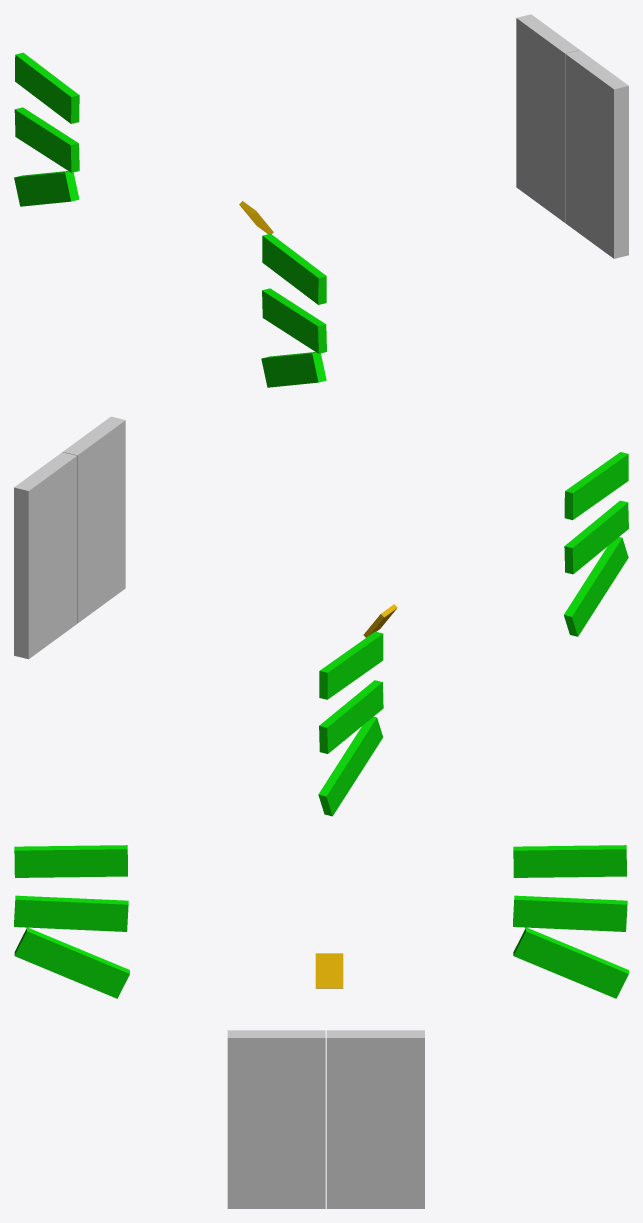
Rendered from Blocky_MainRoomV2_Gameplay.fbx.
3 views of the same model, one above another, from view 1: azimuth 30°, elevation 25°; view 2: azimuth 150°, elevation 25°; view 3: azimuth 270°, elevation 25° (orthographic).
Visible parts, largest first — view 1: Cube.632, Cube.631, Cube.251, Cube.296, Cube.295, Cube.250, Cube.249, Cube.294; view 2: Cube.631, Cube.632, Cube.294, Cube.249, Cube.250, Cube.295, Cube.251, Cube.296; view 3: Cube.631, Cube.632, Cube.295, Cube.250, Cube.249, Cube.251, Cube.294, Cube.296, Cube.211.
Boxes of the visible parts, x1,y1,x2,y2 form: Cube.632: (565, 50, 628, 258); Cube.631: (516, 14, 579, 222); Cube.251: (15, 52, 79, 123); Cube.296: (262, 233, 326, 304); Cube.295: (262, 288, 326, 353); Cube.250: (14, 107, 79, 172); Cube.249: (14, 171, 79, 206); Cube.294: (261, 352, 326, 387); Cube.631: (14, 452, 76, 659); Cube.632: (63, 416, 125, 623); Cube.294: (564, 537, 628, 636); Cube.249: (318, 716, 383, 816); Cube.250: (319, 680, 383, 753); Cube.295: (564, 500, 628, 574); Cube.251: (319, 631, 383, 699); Cube.296: (564, 452, 628, 520); Cube.631: (326, 1030, 424, 1208); Cube.632: (227, 1030, 325, 1208); Cube.295: (14, 895, 128, 931); Cube.250: (513, 895, 627, 931); Cube.249: (513, 927, 628, 998); Cube.251: (513, 845, 626, 877); Cube.294: (14, 927, 129, 998); Cube.296: (14, 845, 127, 877); Cube.211: (315, 953, 343, 988).
Size of the model in its own units: 1423 by 554 by 1805.
